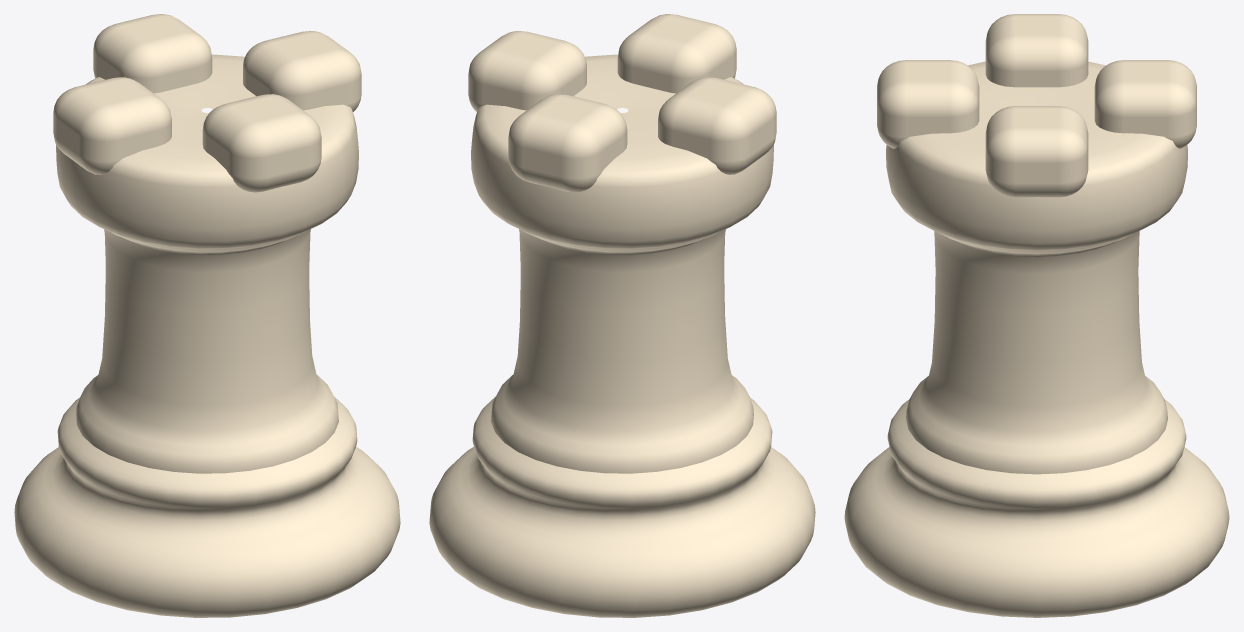
The model's file is rook.glb.
3 views of the same model, side by side, from view 1: azimuth 30°, elevation 25°; view 2: azimuth 150°, elevation 25°; view 3: azimuth 270°, elevation 25° (orthographic).
Visible parts, largest first — view 1: rook-ivory-porcelain; view 2: rook-ivory-porcelain; view 3: rook-ivory-porcelain.
Boxes of the visible parts, bbox=[...] form: rook-ivory-porcelain: bbox=[14, 14, 400, 617]; rook-ivory-porcelain: bbox=[429, 14, 815, 617]; rook-ivory-porcelain: bbox=[844, 14, 1229, 617].
Bounding box in the file's own units: 0.6542 × 0.9 × 0.6542.
